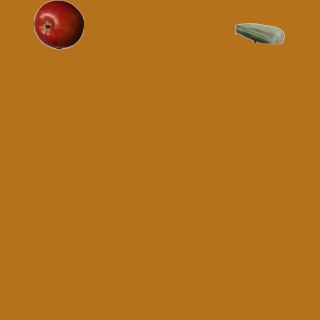Apple Braeburn: (33, 0, 83, 49)
Corn Husk: (234, 8, 284, 58)
